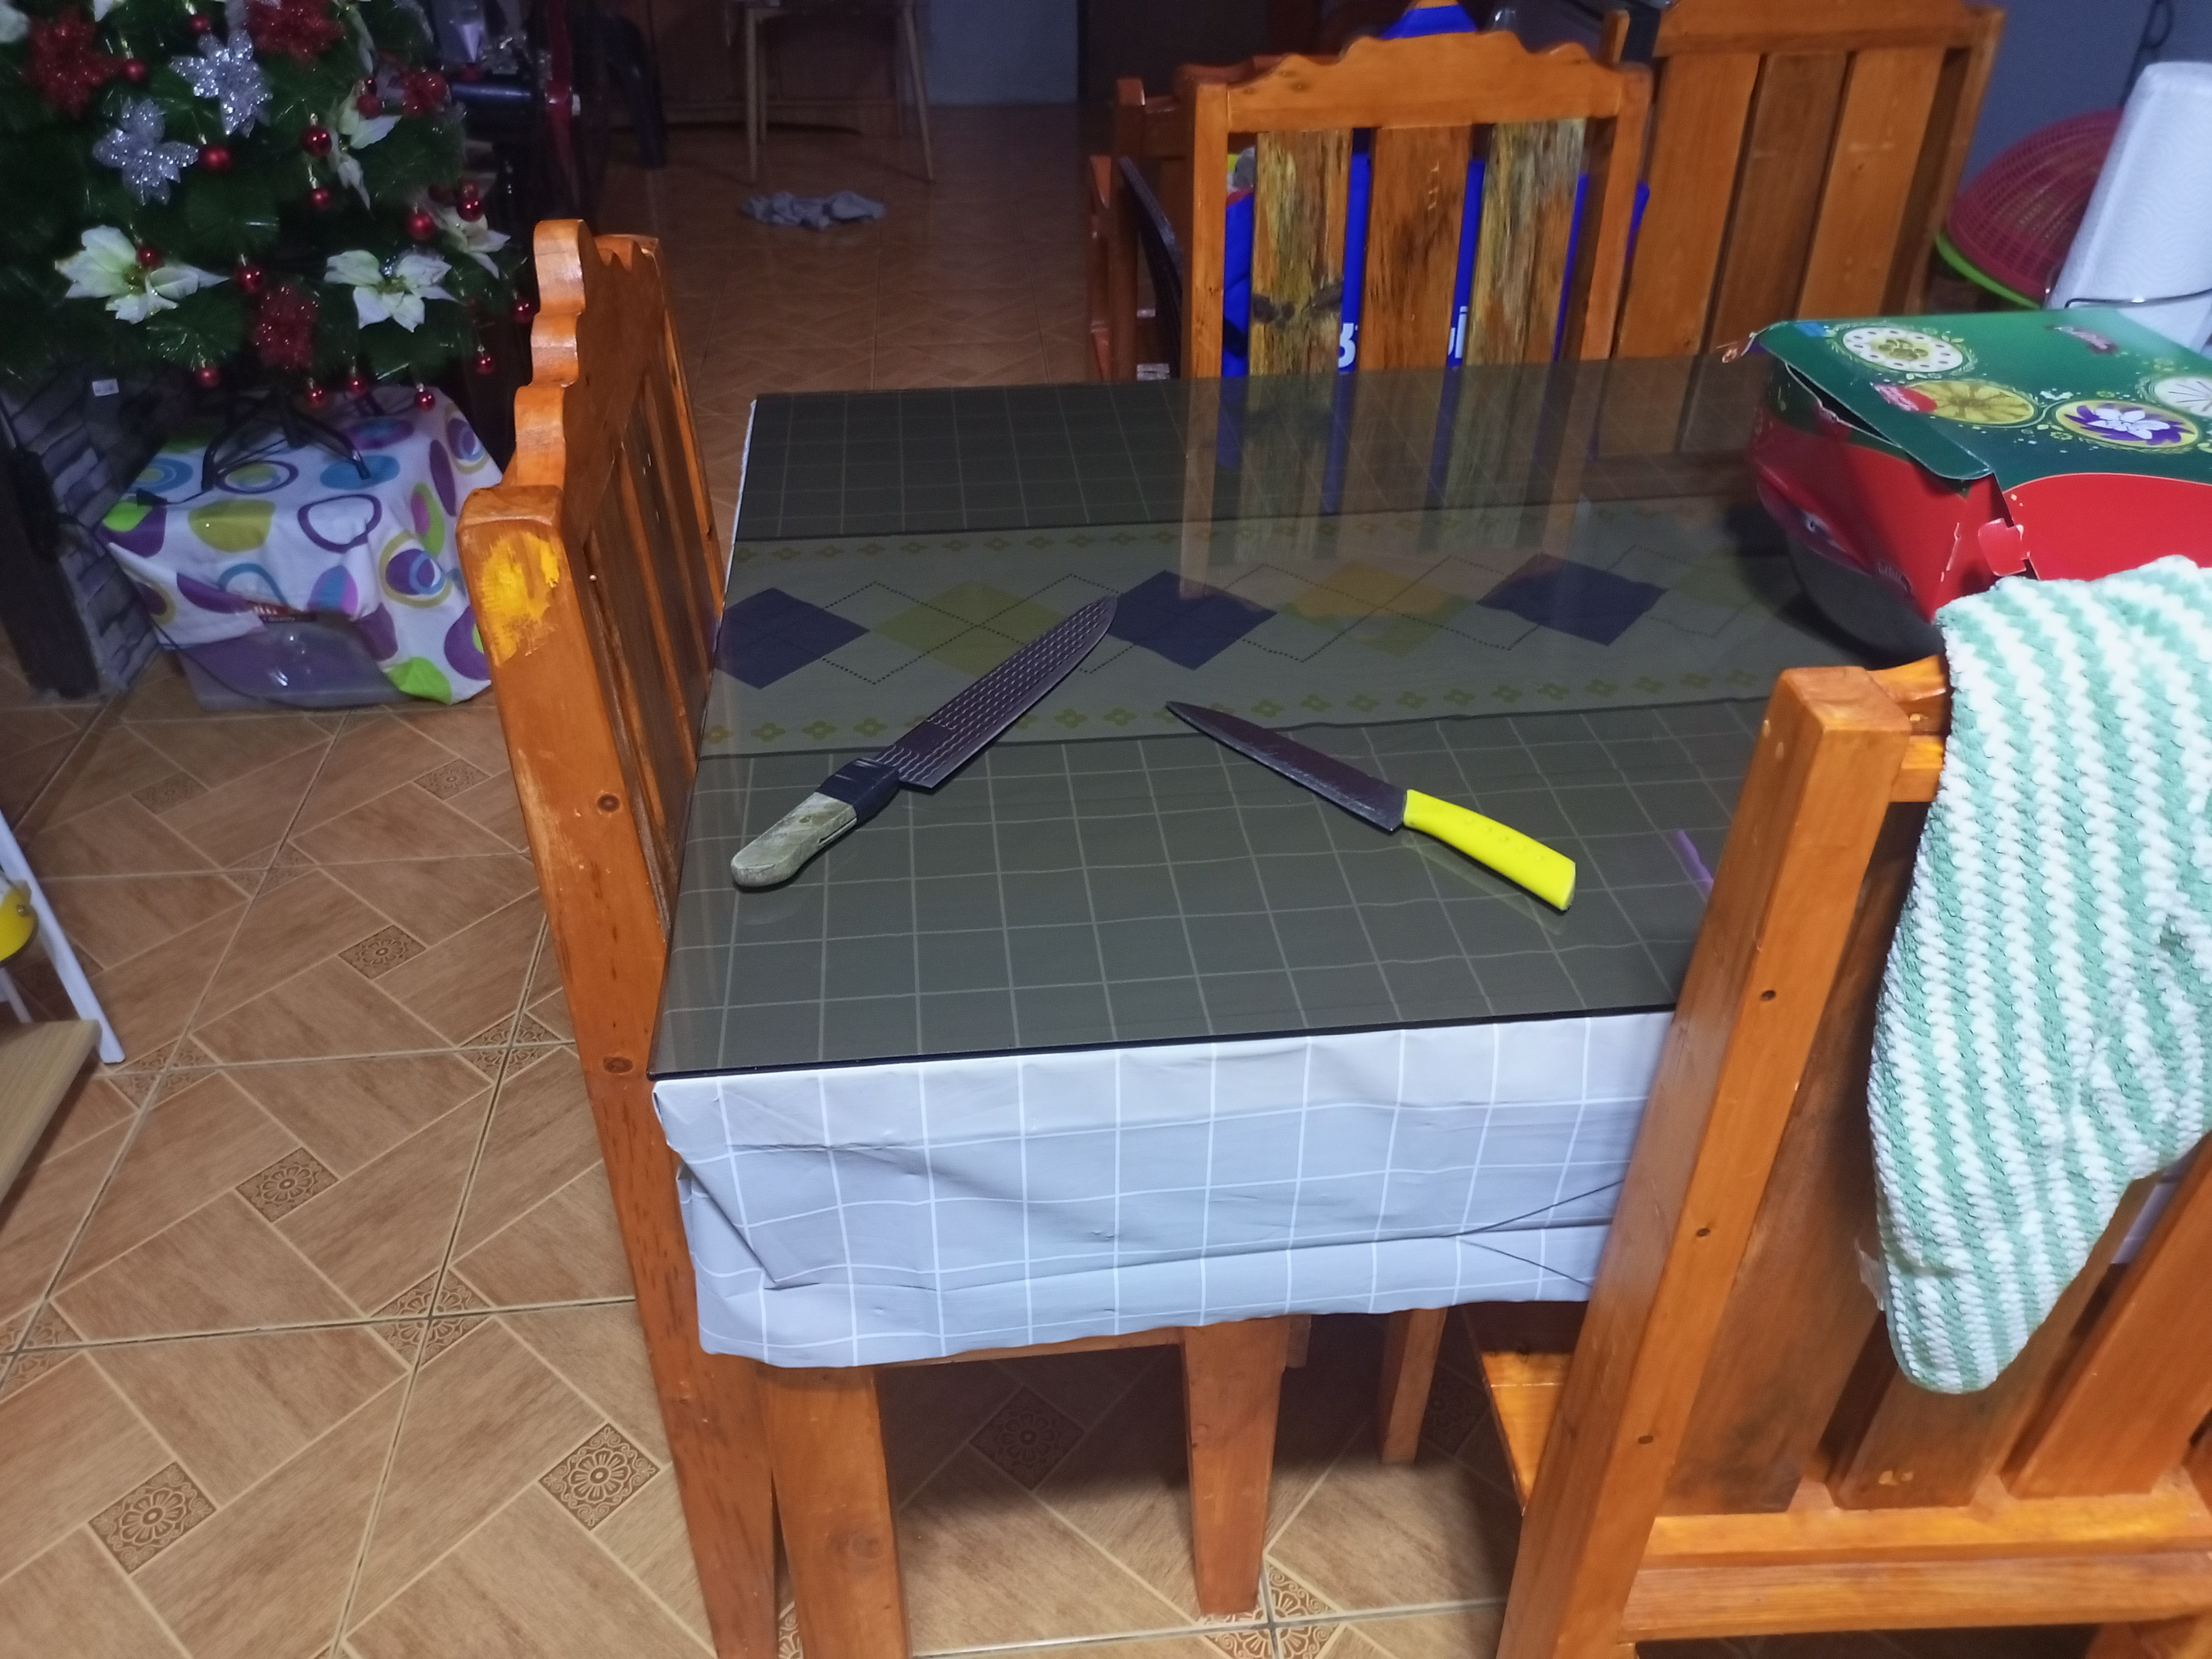knife: (740, 591, 1120, 899), (1160, 699, 1578, 910)
